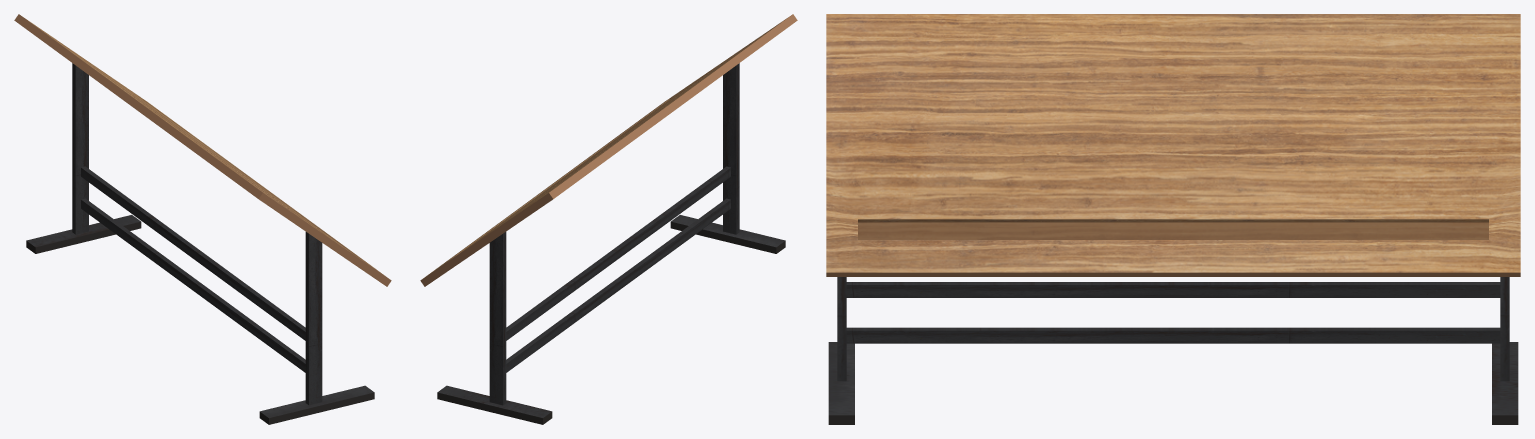
File: show_board.fbx
3 views of the same model, side by side, from view 1: azimuth 30°, elevation 25°; view 2: azimuth 150°, elevation 25°; view 3: azimuth 270°, elevation 25° (orthographic). The views are drawn at different scales.
Parts seen in each view (by area): view 1: obj1; view 2: obj1; view 3: obj1.
Part boxes in pixels (x1,y1,x2,y2): obj1: (14, 14, 391, 424); obj1: (420, 14, 797, 424); obj1: (826, 14, 1520, 424).
Bounding box in the file's own units: 1.92 × 3.22 × 6.08.
Materials: 1 (1 with a texture image).
